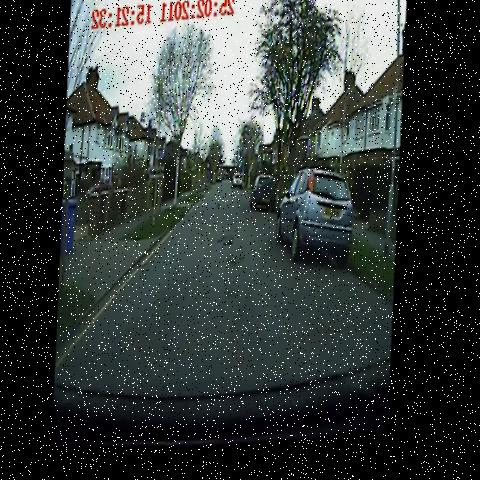pothole: (215, 224, 246, 255), (225, 256, 251, 280), (216, 199, 227, 222)
